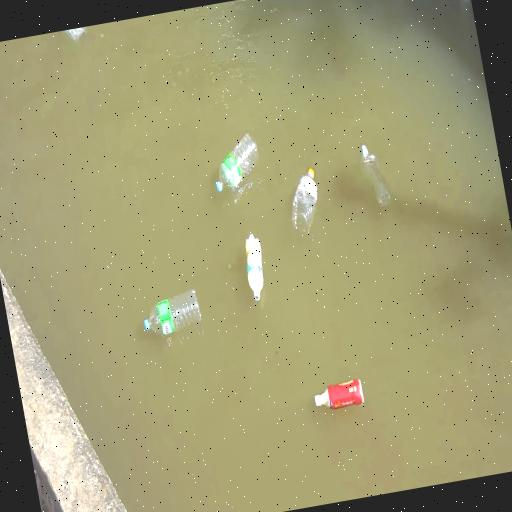plastic: (143, 289, 201, 335), (216, 133, 257, 192), (360, 145, 390, 206), (291, 169, 317, 233), (314, 379, 363, 410), (245, 235, 262, 301), (64, 27, 85, 41)
